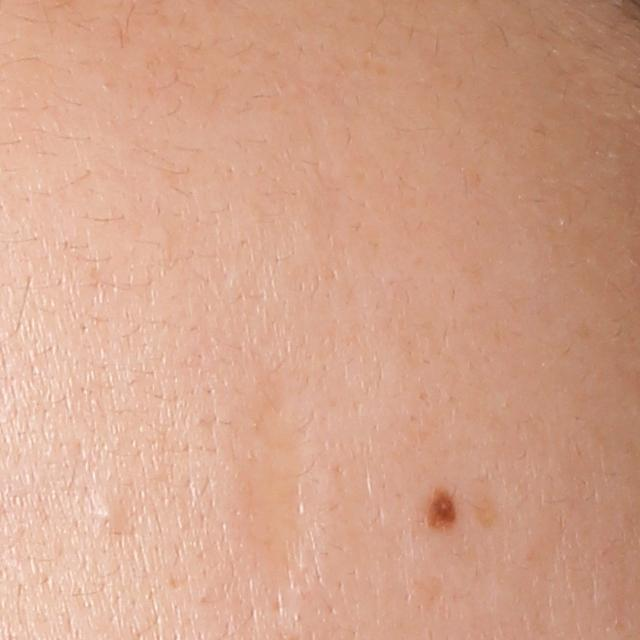comedo: (87, 496, 123, 532)
nevus: (421, 482, 462, 536)
other: (221, 371, 324, 604)
